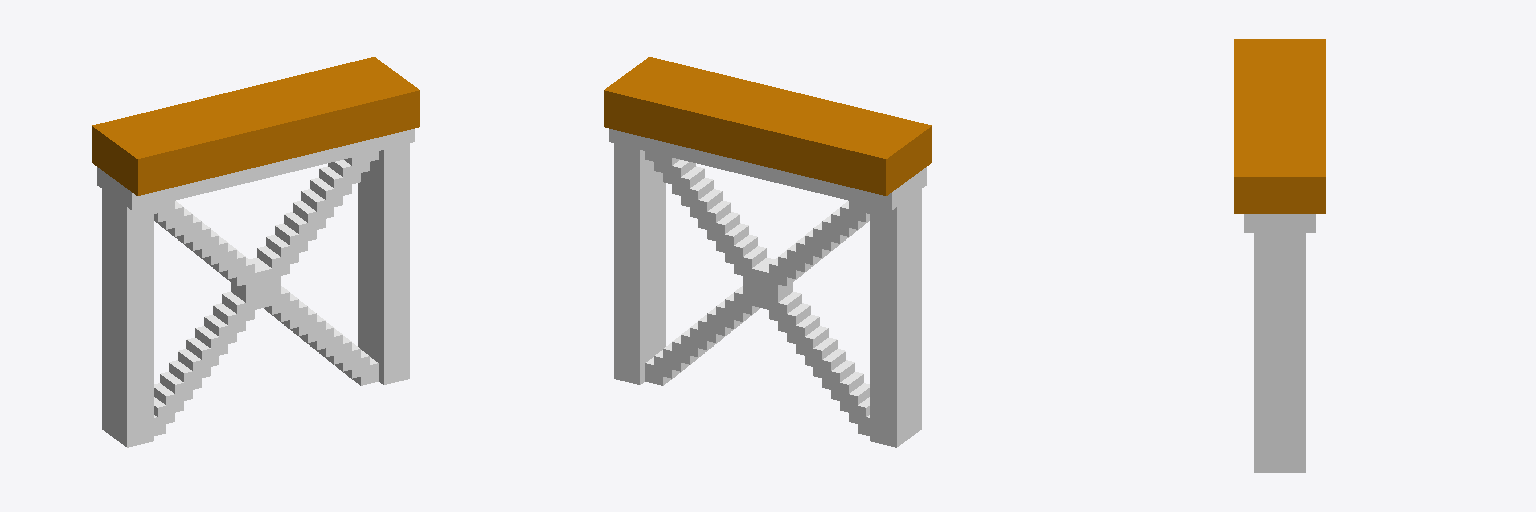
3 views of the same model, side by side, from view 1: azimuth 30°, elevation 25°; view 2: azimuth 150°, elevation 25°; view 3: azimuth 270°, elevation 25° (orthographic).
Parts seen in each view (by area): view 1: RAIL01; view 2: RAIL01; view 3: RAIL01.
Boxes of the visible parts, box(x1,y1,x2,y2) form: RAIL01: box(92, 57, 419, 447); RAIL01: box(604, 57, 931, 447); RAIL01: box(1234, 39, 1325, 472).
Bounding box in the file's own units: 3.2 × 3.2 × 0.9.
1 materials, 1 textured.